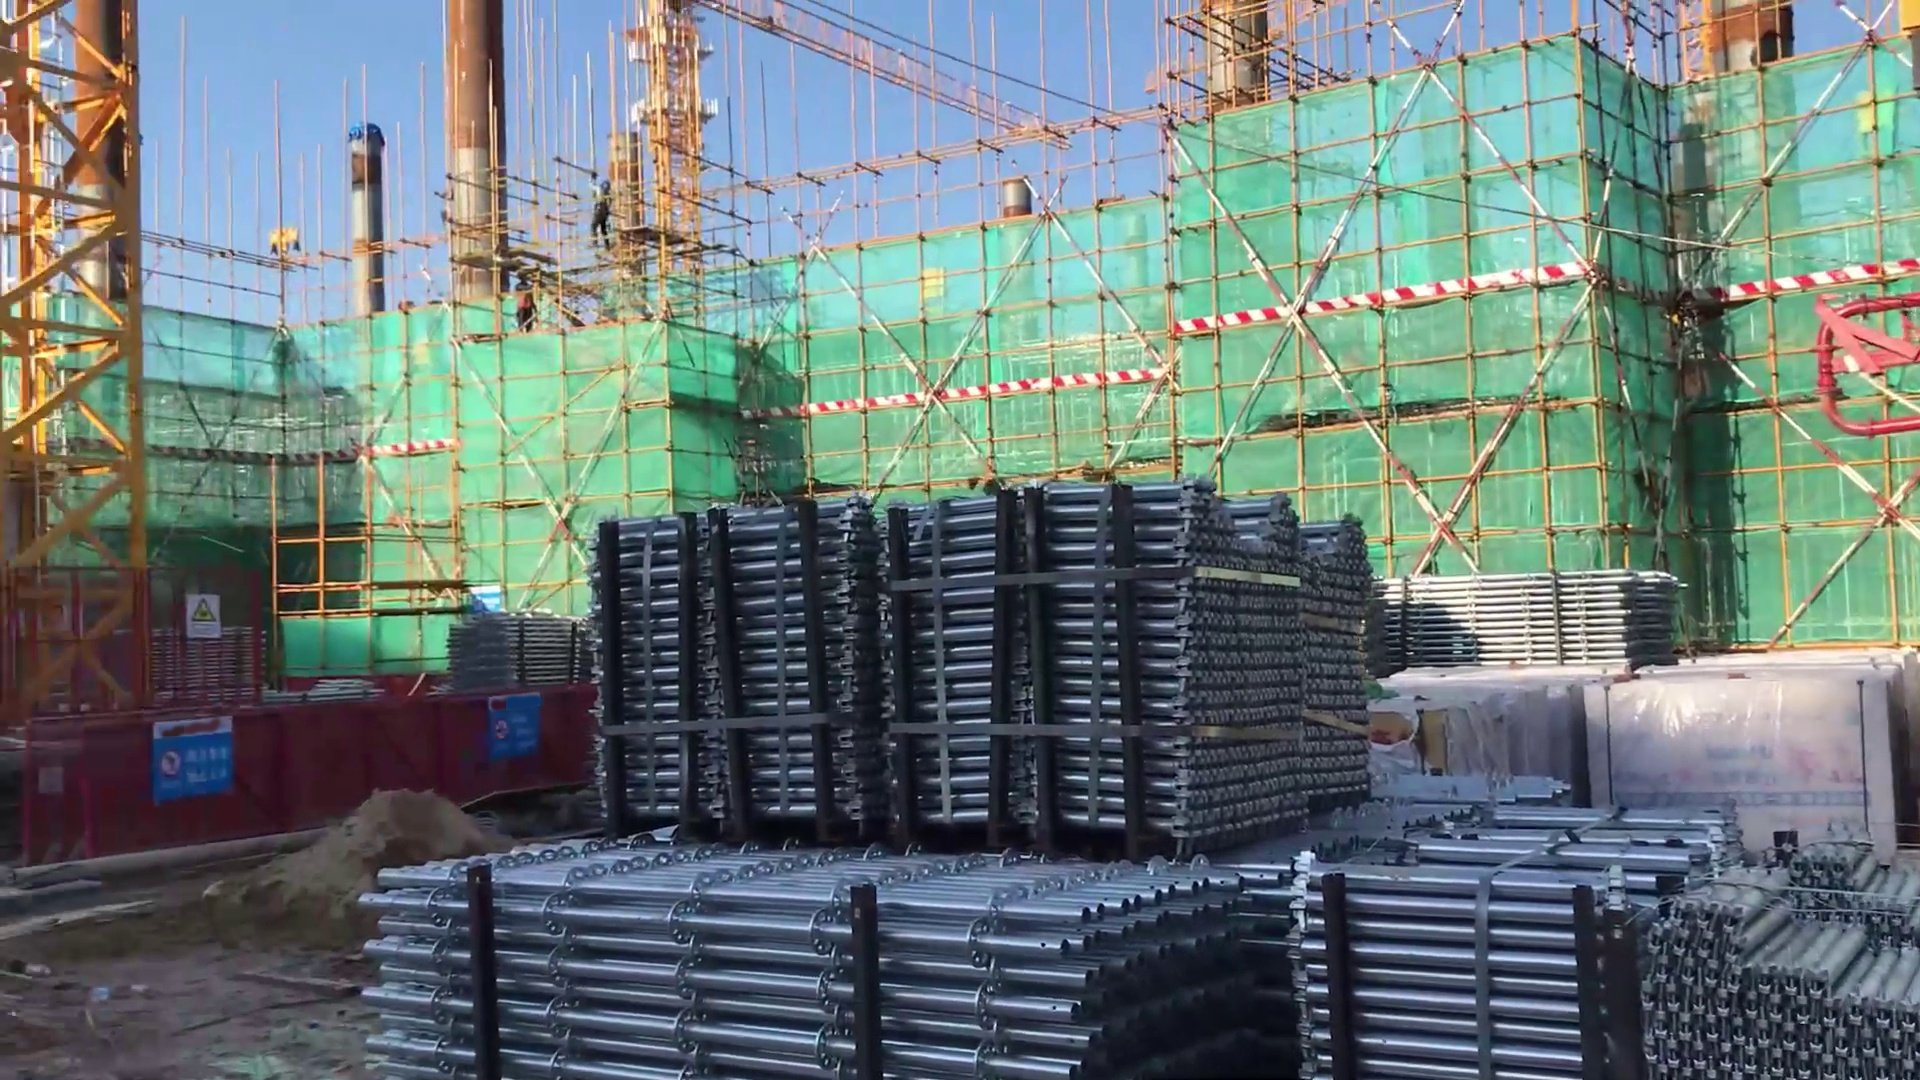fence: (18, 691, 594, 871), (26, 570, 283, 703)
person: (590, 176, 610, 259), (516, 265, 539, 339)
scaffold: (572, 491, 1406, 842), (361, 817, 1308, 1080), (1290, 774, 1920, 1074), (1362, 569, 1709, 657), (452, 598, 594, 692)
slogan: (150, 714, 244, 806), (483, 689, 548, 776), (186, 589, 226, 649), (469, 580, 504, 616)
